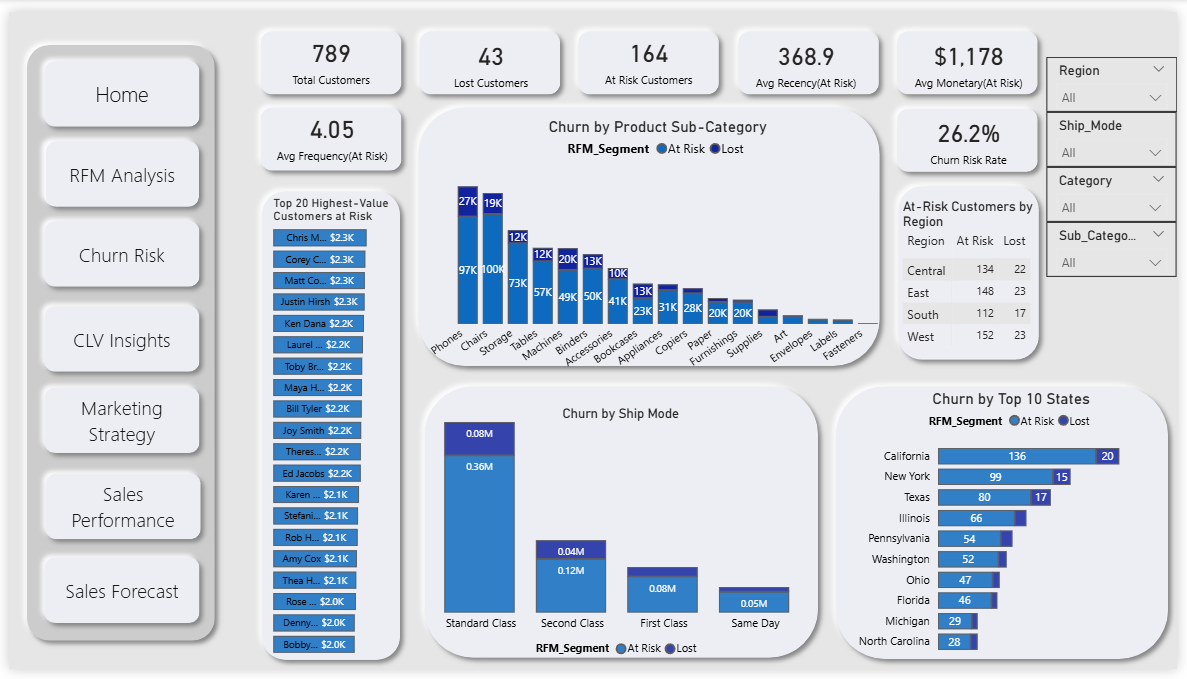

Layout of this report page (visuals, bound fields, positions):
{"tool":"powerbi","page":{"name":"Churn Risk","canvas":[1280,720],"ordinal":2},"visuals":[{"type":"group","id":"g1","title":"Group 1","box":[962.9,95.3,174,90],"z":0,"group":"g18"},{"type":"group","id":"g2","title":"Group 1","box":[964.3,181.4,174.3,210],"z":0,"group":"g20"},{"type":"group","id":"g3","title":"Group 1","box":[267.1,185.7,171.4,532.9],"z":0,"group":"g22"},{"type":"group","id":"g4","title":"Group 1","box":[895.7,400,384.3,318.6],"z":0},{"type":"group","id":"g5","title":"Group 1","box":[440.1,11.4,174,90],"z":1000,"group":"g16"},{"type":"slicer","fields":{"Values":["vw_Churn_Geography.Region"]},"box":[1137.1,49.4,142.9,60],"z":1000},{"type":"barChart","title":"Top 20 Highest-Value Customers at Risk","fields":{"Category":["vw_RFM_Segments.Customer_Name"],"Y":["Sum(vw_RFM_Segments.Monetary)"]},"box":[284.2,201.2,138.6,506.1],"z":1000,"group":"g22"},{"type":"group","id":"g6","title":"Group 1","box":[445.7,400.6,451.4,318.6],"z":1000,"group":"g25"},{"type":"group","id":"g7","title":"Group 1","box":[265.7,95.1,174,90],"z":2000,"group":"g17"},{"type":"slicer","fields":{"Values":["vw_Churn_Product.Sub_Category"]},"box":[1137,230.1,142.5,60.3],"z":2000},{"type":"group","id":"g8","title":"Group 1","box":[962.5,11.4,174,90],"z":3000,"group":"g15"},{"type":"slicer","fields":{"Values":["vw_Churn_Product.Category"]},"box":[1137,169.9,142.5,60.3],"z":3000},{"type":"group","id":"g9","title":"Group 1","box":[614.3,11.4,174,90],"z":4000,"group":"g13"},{"type":"group","id":"g10","title":"Group 1","box":[438.6,94.9,525.7,305.7],"z":4000,"group":"g21"},{"type":"slicer","fields":{"Values":["vw_Churn_ShipMode.Ship_Mode"]},"box":[1137,109.6,142.5,60.3],"z":4000},{"type":"group","id":"g11","title":"Group 1","box":[788.4,11.4,174,90],"z":5000,"group":"g14"},{"type":"columnChart","title":"Churn by Product Sub-Category","fields":{"Category":["vw_Churn_Product.Sub_Category"],"Y":["Sum(vw_Churn_Product.TotalSales)"],"Series":["vw_Churn_Product.RFM_Segment"]},"box":[458.6,114.9,504.3,291.4],"z":5000,"group":"g21"},{"type":"pivotTable","title":"At-Risk Customers by Region","fields":{"Rows":["vw_Churn_Geography.Region"],"Columns":["vw_Churn_Geography.RFM_Segment"],"Values":["Count(vw_Churn_Geography.Customer_ID)"]},"box":[980,204.3,144.3,174.3],"z":5000,"group":"g20"},{"type":"barChart","title":"Churn by Top 10 States","fields":{"Category":["vw_Churn_Geography.State"],"Y":["Count(vw_Churn_Geography.Customer_ID)"],"Series":["vw_Churn_Geography.RFM_Segment"]},"box":[904.3,414.3,368.6,295.7],"z":5000},{"type":"group","id":"g12","title":"Group 1","box":[265.7,11.4,174,90],"z":6000,"group":"g19"},{"type":"group","id":"g13","title":"Group 9","box":[614.3,11.4,174,90],"z":6000},{"type":"columnChart","title":"Churn by Ship Mode","fields":{"Category":["vw_Churn_ShipMode.Ship_Mode"],"Y":["Sum(vw_Churn_ShipMode.TotalSales)"],"Series":["vw_Churn_ShipMode.RFM_Segment"]},"box":[437.1,404.9,461.4,307.1],"z":6000,"group":"g25"},{"type":"group","id":"g14","title":"Group 10","box":[788.4,11.4,174,90],"z":7000},{"type":"card","fields":{"Values":["tbl_Measure.At Risk Customers"]},"box":[630.3,17.4,142,72],"z":7000,"group":"g23"},{"type":"group","id":"g15","title":"Group 11","box":[962.5,11.4,174,90],"z":8000},{"type":"card","fields":{"Values":["tbl_Measure.Lost Customers"]},"box":[458.1,19.4,142,72],"z":8000,"group":"g26"},{"type":"group","id":"g16","title":"Group 12","box":[440.1,11.4,174,90],"z":9000},{"type":"card","fields":{"Values":["tbl_Measure.Churn Risk Rate"]},"box":[980.9,103.3,142,72],"z":9000,"group":"g29"},{"type":"card","fields":{"Values":["Avg(vw_RFM_Segments.Recency)"]},"box":[802.4,19.4,142,72],"z":10000,"group":"g35"},{"type":"group","id":"g17","title":"Group 13","box":[265.7,95.1,174.3,90],"z":10000},{"type":"card","fields":{"Values":["Avg(vw_RFM_Segments.Monetary)"]},"box":[980.5,19.4,142,72],"z":11000,"group":"g33"},{"type":"group","id":"g18","title":"Group 14","box":[962.9,95.3,174.3,90],"z":11000},{"type":"group","id":"g19","title":"Group 15","box":[265.7,11.4,174.3,90],"z":12000},{"type":"card","fields":{"Values":["Avg(vw_RFM_Segments.Frequency)"]},"box":[283.7,101.1,142,72],"z":12000,"group":"g31"},{"type":"group","id":"g20","title":"Group 16","box":[964.3,181.4,174.3,210],"z":13000},{"type":"group","id":"g21","title":"Group 17","box":[438.6,94.9,525.7,311.4],"z":14000},{"type":"group","id":"g22","title":"Group 18","box":[267.1,185.7,171.4,532.9],"z":15000},{"type":"group","id":"g23","title":"Group 2","box":[630.3,17.4,142,72],"z":16000,"group":"g13"},{"type":"group","id":"g24","title":"Group 1","box":[10.1,26.4,226,674],"z":16000,"group":"g27"},{"type":"group","id":"g25","title":"Group 19","box":[437.1,400.6,461.4,318.6],"z":16000},{"type":"textbox","box":[564,426.1,212.1,44.2],"z":16000,"group":"g25"},{"type":"group","id":"g26","title":"Group 3","box":[458.1,19.4,142,72],"z":17000,"group":"g16"},{"type":"group","id":"g27","title":"Group 10","box":[10.1,26.4,226,674],"z":17000},{"type":"group","id":"g28","title":"Group 1","box":[30.2,496.8,190,92],"z":17000,"group":"g27"},{"type":"group","id":"g29","title":"Group 4","box":[980.9,103.3,142,72],"z":18000,"group":"g18"},{"type":"group","id":"g30","title":"Group 1","box":[29,587.4,190,92],"z":18000,"group":"g27"},{"type":"group","id":"g31","title":"Group 5","box":[283.7,101.1,142,72],"z":19000,"group":"g17"},{"type":"group","id":"g32","title":"Group 1","box":[29,401.9,190,92],"z":19000,"group":"g27"},{"type":"shape","box":[265.7,11.4,174.3,89.3],"z":19500,"group":"g12"},{"type":"shape","box":[440.1,11.4,174.3,89.3],"z":19500,"group":"g5"},{"type":"shape","box":[614.3,11.4,174.3,89.3],"z":19500,"group":"g9"},{"type":"shape","box":[788.4,11.4,174.3,89.3],"z":19500,"group":"g11"},{"type":"shape","box":[962.5,11.4,174.3,89.3],"z":19500,"group":"g8"},{"type":"shape","box":[10.1,26.4,226,673],"z":19500,"group":"g24"},{"type":"shape","box":[29,44.5,190,91.9],"z":19500,"group":"g39"},{"type":"shape","box":[438.6,94.9,525.8,303.3],"z":19500,"group":"g10"},{"type":"shape","box":[265.7,95.1,174.3,89.3],"z":19500,"group":"g7"},{"type":"shape","box":[962.9,95.3,174.3,89.3],"z":19500,"group":"g1"},{"type":"shape","box":[29,132,188.1,91.9],"z":19500,"group":"g38"},{"type":"shape","box":[964.3,181.4,174.3,210.3],"z":19500,"group":"g2"},{"type":"shape","box":[267.1,185.7,171.5,533.7],"z":19500,"group":"g3"},{"type":"shape","box":[29,219.6,190,91.9],"z":19500,"group":"g36"},{"type":"shape","box":[29,313.2,190,91.9],"z":19500,"group":"g34"},{"type":"shape","box":[895.7,400,384.3,319.1],"z":19500,"group":"g4"},{"type":"shape","box":[445.7,400.6,451.5,317.7],"z":19500,"group":"g6"},{"type":"shape","box":[29,401.9,190,91.9],"z":19500,"group":"g32"},{"type":"shape","box":[30.2,496.8,190,91.9],"z":19500,"group":"g28"},{"type":"shape","box":[29,587.4,190,91.9],"z":19500,"group":"g30"},{"type":"shape","box":[265.7,11.4,174.3,89.3],"z":20000,"group":"g12"},{"type":"shape","box":[440.1,11.4,174.3,89.3],"z":20000,"group":"g5"},{"type":"shape","box":[614.3,11.4,174.3,89.3],"z":20000,"group":"g9"},{"type":"shape","box":[788.4,11.4,174.3,89.3],"z":20000,"group":"g11"},{"type":"shape","box":[962.5,11.4,174.3,89.3],"z":20000,"group":"g8"},{"type":"group","id":"g33","title":"Group 6","box":[980.5,19.4,142,72],"z":20000,"group":"g15"},{"type":"shape","box":[10.1,26.4,226,673],"z":20000,"group":"g24"},{"type":"shape","box":[29,44.5,190,91.9],"z":20000,"group":"g39"},{"type":"shape","box":[438.6,94.9,525.8,303.3],"z":20000,"group":"g10"},{"type":"shape","box":[265.7,95.1,174.3,89.3],"z":20000,"group":"g7"},{"type":"shape","box":[962.9,95.3,174.3,89.3],"z":20000,"group":"g1"},{"type":"shape","box":[30.9,132,188.1,92],"z":20000,"group":"g38"},{"type":"shape","box":[964.3,181.4,174.3,210.3],"z":20000,"group":"g2"},{"type":"shape","box":[267.1,185.7,171.5,533.7],"z":20000,"group":"g3"},{"type":"shape","box":[29,219.6,190,91.9],"z":20000,"group":"g36"},{"type":"group","id":"g34","title":"Group 1","box":[29,313.2,190,92],"z":20000,"group":"g27"},{"type":"shape","box":[29,313.2,190,91.9],"z":20000,"group":"g34"},{"type":"shape","box":[895.7,400,384.3,319.1],"z":20000,"group":"g4"},{"type":"shape","box":[445.7,400.6,451.5,317.7],"z":20000,"group":"g6"},{"type":"shape","box":[29,401.9,190,91.9],"z":20000,"group":"g32"},{"type":"shape","box":[30.2,496.8,190,91.9],"z":20000,"group":"g28"},{"type":"shape","box":[29,587.4,190,91.9],"z":20000,"group":"g30"},{"type":"group","id":"g35","title":"Group 7","box":[802.4,19.4,142,72],"z":21000,"group":"g14"},{"type":"group","id":"g36","title":"Group 1","box":[29,219.6,190,92],"z":21000,"group":"g27"},{"type":"group","id":"g37","title":"Group 8","box":[281.7,17.4,142,72],"z":22000,"group":"g19"},{"type":"card","fields":{"Values":["tbl_Measure.Customer Count"]},"box":[281.7,17.4,142,72],"z":22000,"group":"g37"},{"type":"group","id":"g38","title":"Group 1","box":[29,132,190,92],"z":22000,"group":"g27"},{"type":"group","id":"g39","title":"Group 1","box":[29,44.5,190,92],"z":23000,"group":"g27"}]}

Visuals, with their boxes in screenshot pixels (x1, y1, x2, y2), scaled from the page's 1280x720 canvas onto the 1187x679 screenshot:
"Group 1" group: bbox=[893, 90, 1054, 175]
"Group 1" group: bbox=[894, 171, 1056, 369]
"Group 1" group: bbox=[248, 175, 407, 678]
"Group 1" group: bbox=[831, 377, 1186, 678]
"Group 1" group: bbox=[408, 11, 569, 96]
slicer - vw_Churn_Geography.Region: bbox=[1054, 47, 1186, 103]
"Top 20 Highest-Value Customers at Risk" barChart: bbox=[264, 190, 392, 667]
"Group 1" group: bbox=[413, 378, 832, 678]
"Group 1" group: bbox=[246, 90, 408, 175]
slicer - vw_Churn_Product.Sub_Category: bbox=[1054, 217, 1186, 274]
"Group 1" group: bbox=[893, 11, 1054, 96]
slicer - vw_Churn_Product.Category: bbox=[1054, 160, 1186, 217]
"Group 1" group: bbox=[570, 11, 731, 96]
"Group 1" group: bbox=[407, 89, 894, 378]
slicer - vw_Churn_ShipMode.Ship_Mode: bbox=[1054, 103, 1186, 160]
"Group 1" group: bbox=[731, 11, 892, 96]
"Churn by Product Sub-Category" columnChart: bbox=[425, 108, 893, 383]
"At-Risk Customers by Region" pivotTable: bbox=[909, 193, 1043, 357]
"Churn by Top 10 States" barChart: bbox=[839, 391, 1180, 670]
"Group 1" group: bbox=[246, 11, 408, 96]
"Group 9" group: bbox=[570, 11, 731, 96]
"Churn by Ship Mode" columnChart: bbox=[405, 382, 833, 671]
"Group 10" group: bbox=[731, 11, 892, 96]
card - tbl_Measure.At Risk Customers: bbox=[585, 16, 716, 84]
"Group 11" group: bbox=[893, 11, 1054, 96]
card - tbl_Measure.Lost Customers: bbox=[425, 18, 556, 86]
"Group 12" group: bbox=[408, 11, 569, 96]
card - tbl_Measure.Churn Risk Rate: bbox=[910, 97, 1041, 165]
card - Avg(vw_RFM_Segments.Recency): bbox=[744, 18, 876, 86]
"Group 13" group: bbox=[246, 90, 408, 175]
card - Avg(vw_RFM_Segments.Monetary): bbox=[909, 18, 1041, 86]
"Group 14" group: bbox=[893, 90, 1055, 175]
"Group 15" group: bbox=[246, 11, 408, 96]
card - Avg(vw_RFM_Segments.Frequency): bbox=[263, 95, 395, 163]
"Group 16" group: bbox=[894, 171, 1056, 369]
"Group 17" group: bbox=[407, 89, 894, 383]
"Group 18" group: bbox=[248, 175, 407, 678]
"Group 2" group: bbox=[585, 16, 716, 84]
"Group 1" group: bbox=[9, 25, 219, 661]
"Group 19" group: bbox=[405, 378, 833, 678]
textbox: bbox=[523, 402, 720, 444]
"Group 3" group: bbox=[425, 18, 556, 86]
"Group 10" group: bbox=[9, 25, 219, 661]
"Group 1" group: bbox=[28, 469, 204, 555]
"Group 4" group: bbox=[910, 97, 1041, 165]
"Group 1" group: bbox=[27, 554, 203, 641]
"Group 5" group: bbox=[263, 95, 395, 163]
"Group 1" group: bbox=[27, 379, 203, 466]
shape: bbox=[246, 11, 408, 95]
shape: bbox=[408, 11, 570, 95]
shape: bbox=[570, 11, 731, 95]
shape: bbox=[731, 11, 893, 95]
shape: bbox=[893, 11, 1054, 95]
shape: bbox=[9, 25, 219, 660]
shape: bbox=[27, 42, 203, 129]
shape: bbox=[407, 89, 894, 376]
shape: bbox=[246, 90, 408, 174]
shape: bbox=[893, 90, 1055, 174]
shape: bbox=[27, 124, 201, 211]
shape: bbox=[894, 171, 1056, 369]
shape: bbox=[248, 175, 407, 678]
shape: bbox=[27, 207, 203, 294]
shape: bbox=[27, 295, 203, 382]
shape: bbox=[831, 377, 1186, 678]
shape: bbox=[413, 378, 832, 677]
shape: bbox=[27, 379, 203, 466]
shape: bbox=[28, 469, 204, 555]
shape: bbox=[27, 554, 203, 641]
shape: bbox=[246, 11, 408, 95]
shape: bbox=[408, 11, 570, 95]
shape: bbox=[570, 11, 731, 95]
shape: bbox=[731, 11, 893, 95]
shape: bbox=[893, 11, 1054, 95]
"Group 6" group: bbox=[909, 18, 1041, 86]
shape: bbox=[9, 25, 219, 660]
shape: bbox=[27, 42, 203, 129]
shape: bbox=[407, 89, 894, 376]
shape: bbox=[246, 90, 408, 174]
shape: bbox=[893, 90, 1055, 174]
shape: bbox=[29, 124, 203, 211]
shape: bbox=[894, 171, 1056, 369]
shape: bbox=[248, 175, 407, 678]
shape: bbox=[27, 207, 203, 294]
"Group 1" group: bbox=[27, 295, 203, 382]
shape: bbox=[27, 295, 203, 382]
shape: bbox=[831, 377, 1186, 678]
shape: bbox=[413, 378, 832, 677]
shape: bbox=[27, 379, 203, 466]
shape: bbox=[28, 469, 204, 555]
shape: bbox=[27, 554, 203, 641]
"Group 7" group: bbox=[744, 18, 876, 86]
"Group 1" group: bbox=[27, 207, 203, 294]
"Group 8" group: bbox=[261, 16, 393, 84]
card - tbl_Measure.Customer Count: bbox=[261, 16, 393, 84]
"Group 1" group: bbox=[27, 124, 203, 211]
"Group 1" group: bbox=[27, 42, 203, 129]
